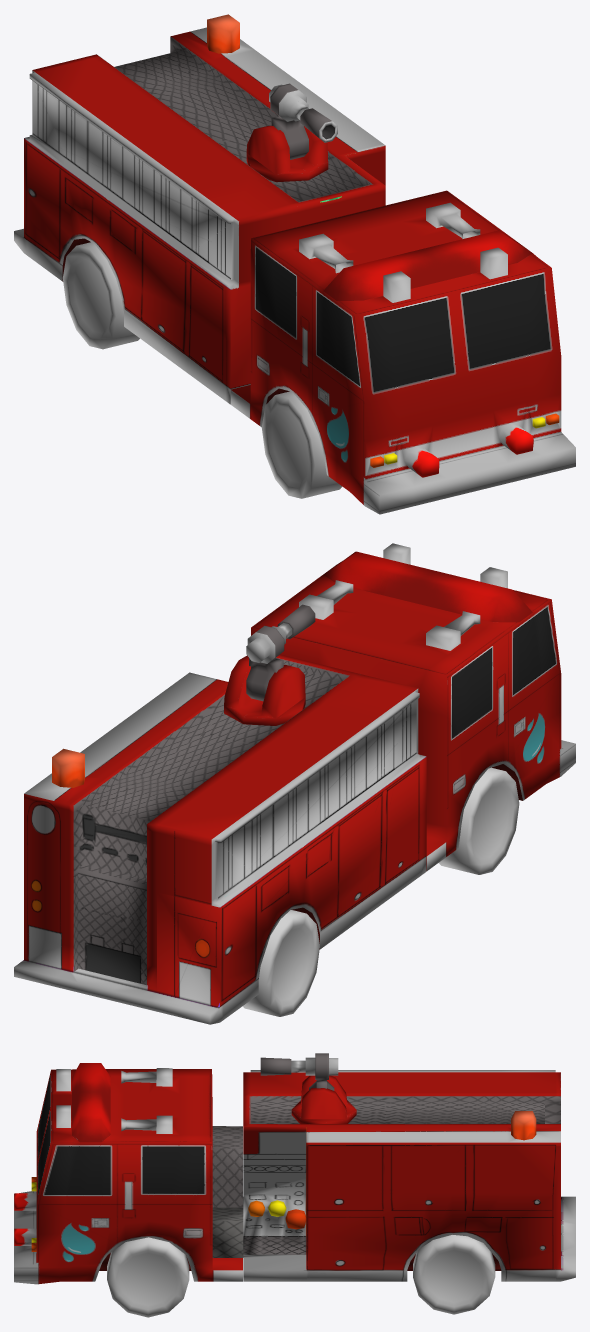
The model's file is watercar.obj.
3 renders of one model, top to bottom at view 1: azimuth 30°, elevation 25°; view 2: azimuth 150°, elevation 25°; view 3: azimuth 270°, elevation 25°, orthographic. The views are drawn at different scales.
Parts seen in each view (by area): view 1: Cabine_TextCab, Truck_Cube, Canon_TextCanon, roueL_Cylinder.000, roueArr_Cylinder.002; view 2: Truck_Cube, Cabine_TextCab, Canon_TextCanon, roueL_Cylinder.000, roueArr_Cylinder.002; view 3: Truck_Cube, Cabine_TextCab, roueR_Cylinder.004, roueArr_Cylinder.002, Canon_TextCanon.
Part boxes in pixels (<box>): Cabine_TextCab: <box>230,190,575,514</box>; Truck_Cube: <box>14,14,385,404</box>; Canon_TextCanon: <box>246,83,337,182</box>; roueL_Cylinder.000: <box>261,391,342,498</box>; roueArr_Cylinder.002: <box>63,242,139,349</box>; Truck_Cube: <box>14,654,426,1024</box>; Cabine_TextCab: <box>251,543,575,870</box>; Canon_TextCanon: <box>224,604,315,725</box>; roueL_Cylinder.000: <box>439,767,519,874</box>; roueArr_Cylinder.002: <box>243,910,319,1016</box>; Truck_Cube: <box>212,1070,575,1281</box>; Cabine_TextCab: <box>14,1063,242,1284</box>; roueR_Cylinder.004: <box>107,1237,189,1317</box>; roueArr_Cylinder.002: <box>413,1235,495,1314</box>; Canon_TextCanon: <box>260,1053,356,1123</box>.
Bounding box in the file's own units: 1.19 × 1.66 × 3.71.
